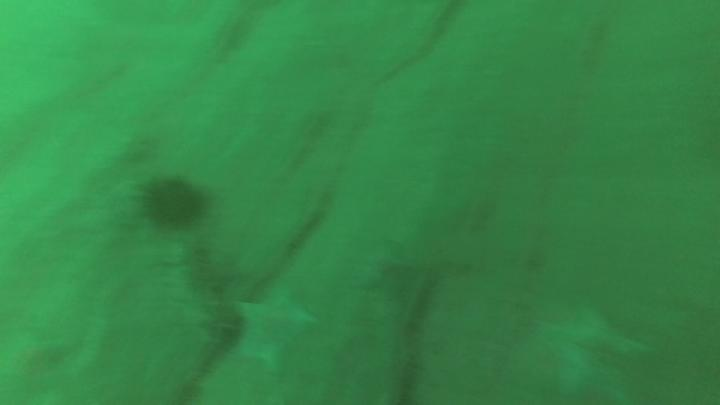echinus: (132, 170, 215, 238)
holothurian: (152, 236, 249, 344)
starfish: (529, 299, 658, 405), (232, 276, 313, 374), (348, 237, 414, 298)
